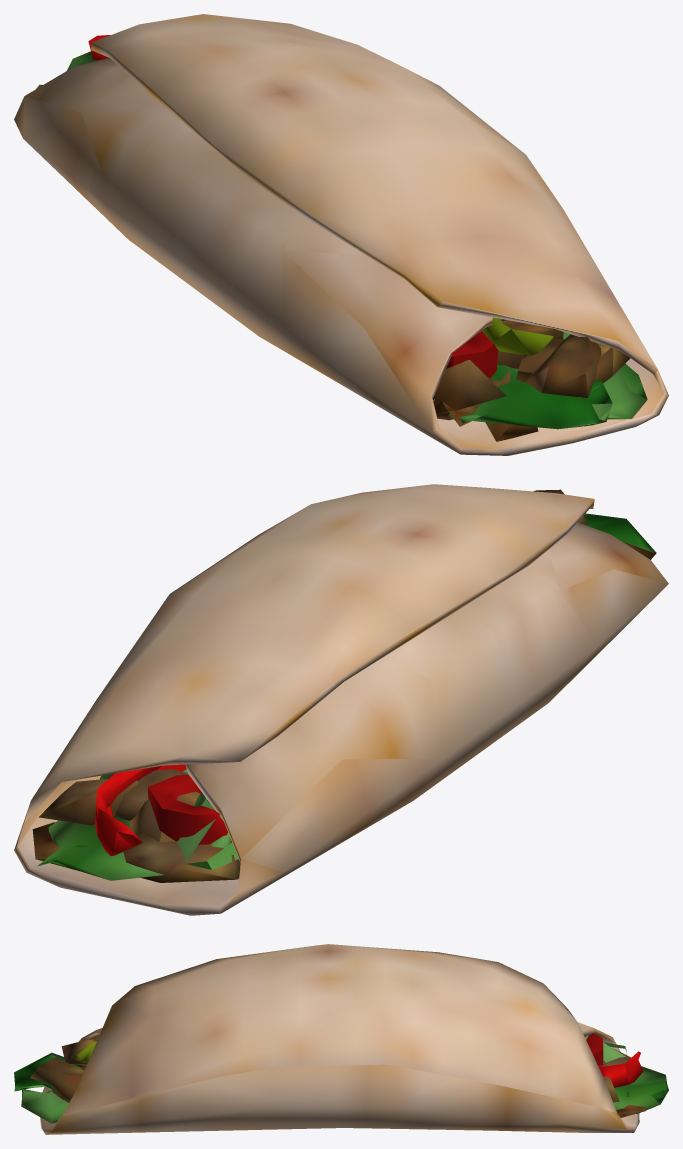
File: Paintable_Kebab.fbx
3 renders of one model, top to bottom at view 1: azimuth 30°, elevation 25°; view 2: azimuth 150°, elevation 25°; view 3: azimuth 270°, elevation 25°, orthographic. The views are drawn at different scales.
Parts seen in each view (by area): view 1: Paintable_Kebab_LOD0; view 2: Paintable_Kebab_LOD0; view 3: Paintable_Kebab_LOD0.
Boxes of the visible parts, x1,y1,x2,y2 form: Paintable_Kebab_LOD0: [14, 14, 668, 455]; Paintable_Kebab_LOD0: [14, 484, 668, 915]; Paintable_Kebab_LOD0: [14, 944, 668, 1134].
Size of the model in its own units: 0.6554 by 1.78 by 0.4051.
